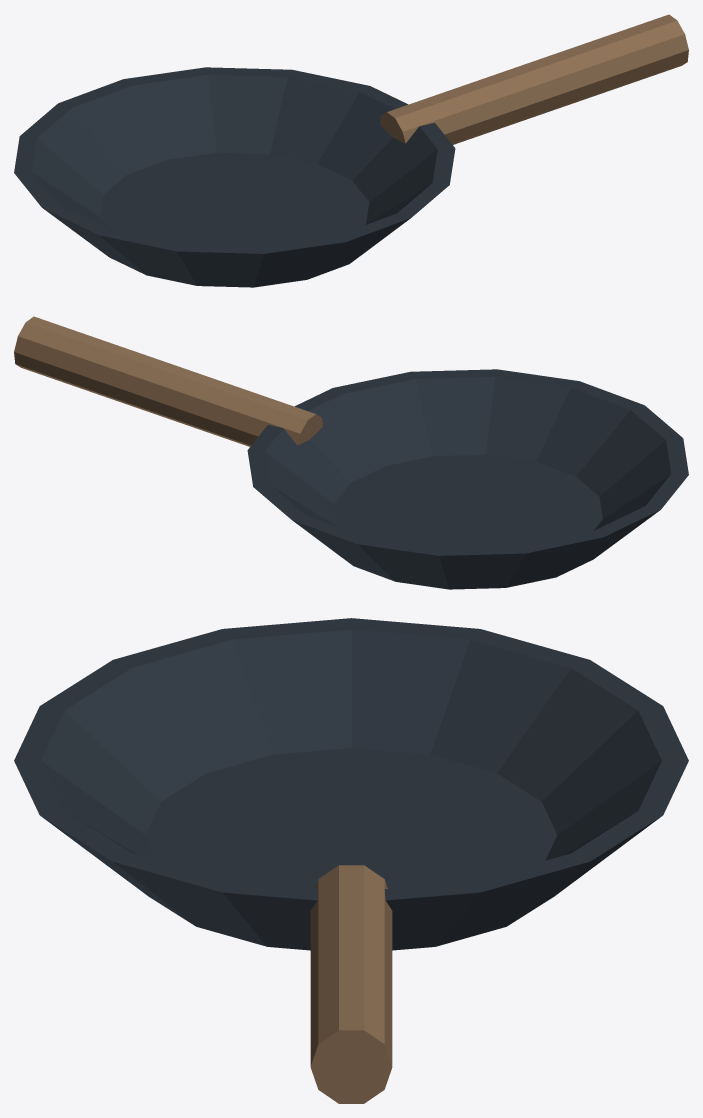
Rendered from L-01_frying_pan.glb.
The picture shows the model from 3 angles, top to bottom: view 1: azimuth 30°, elevation 25°; view 2: azimuth 150°, elevation 25°; view 3: azimuth 270°, elevation 25°; orthographic projection. The views are drawn at different scales.
Visible parts, largest first — view 1: L-01_frying_pan; view 2: L-01_frying_pan; view 3: L-01_frying_pan.
Boxes of the visible parts, x1,y1,x2,y2 form: L-01_frying_pan: (14,14,688,287); L-01_frying_pan: (14,316,688,589); L-01_frying_pan: (14,618,688,1103).
Size of the model in its own units: 0.4616 by 0.0711 by 0.28.
